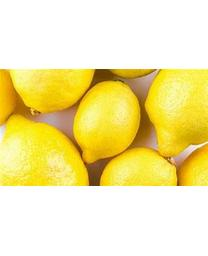lemon: (1, 112, 86, 187), (74, 79, 143, 165), (144, 70, 205, 158)
